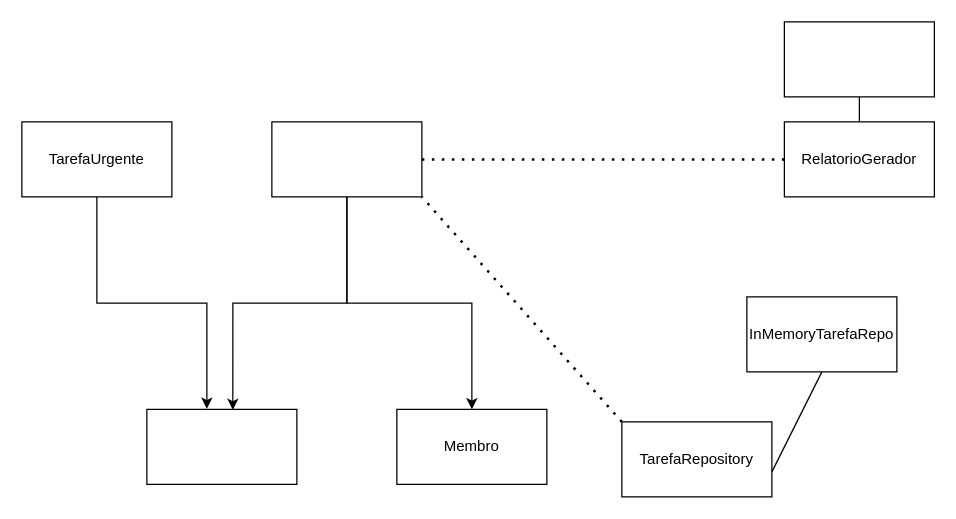
This 956x519 diagram has some shape labels left out. Each missing label, with the box of its shape:
Projeto: (271, 121, 422, 197)
Tarefa: (146, 408, 297, 484)
TextoRelatórioGerador: (783, 21, 934, 97)
